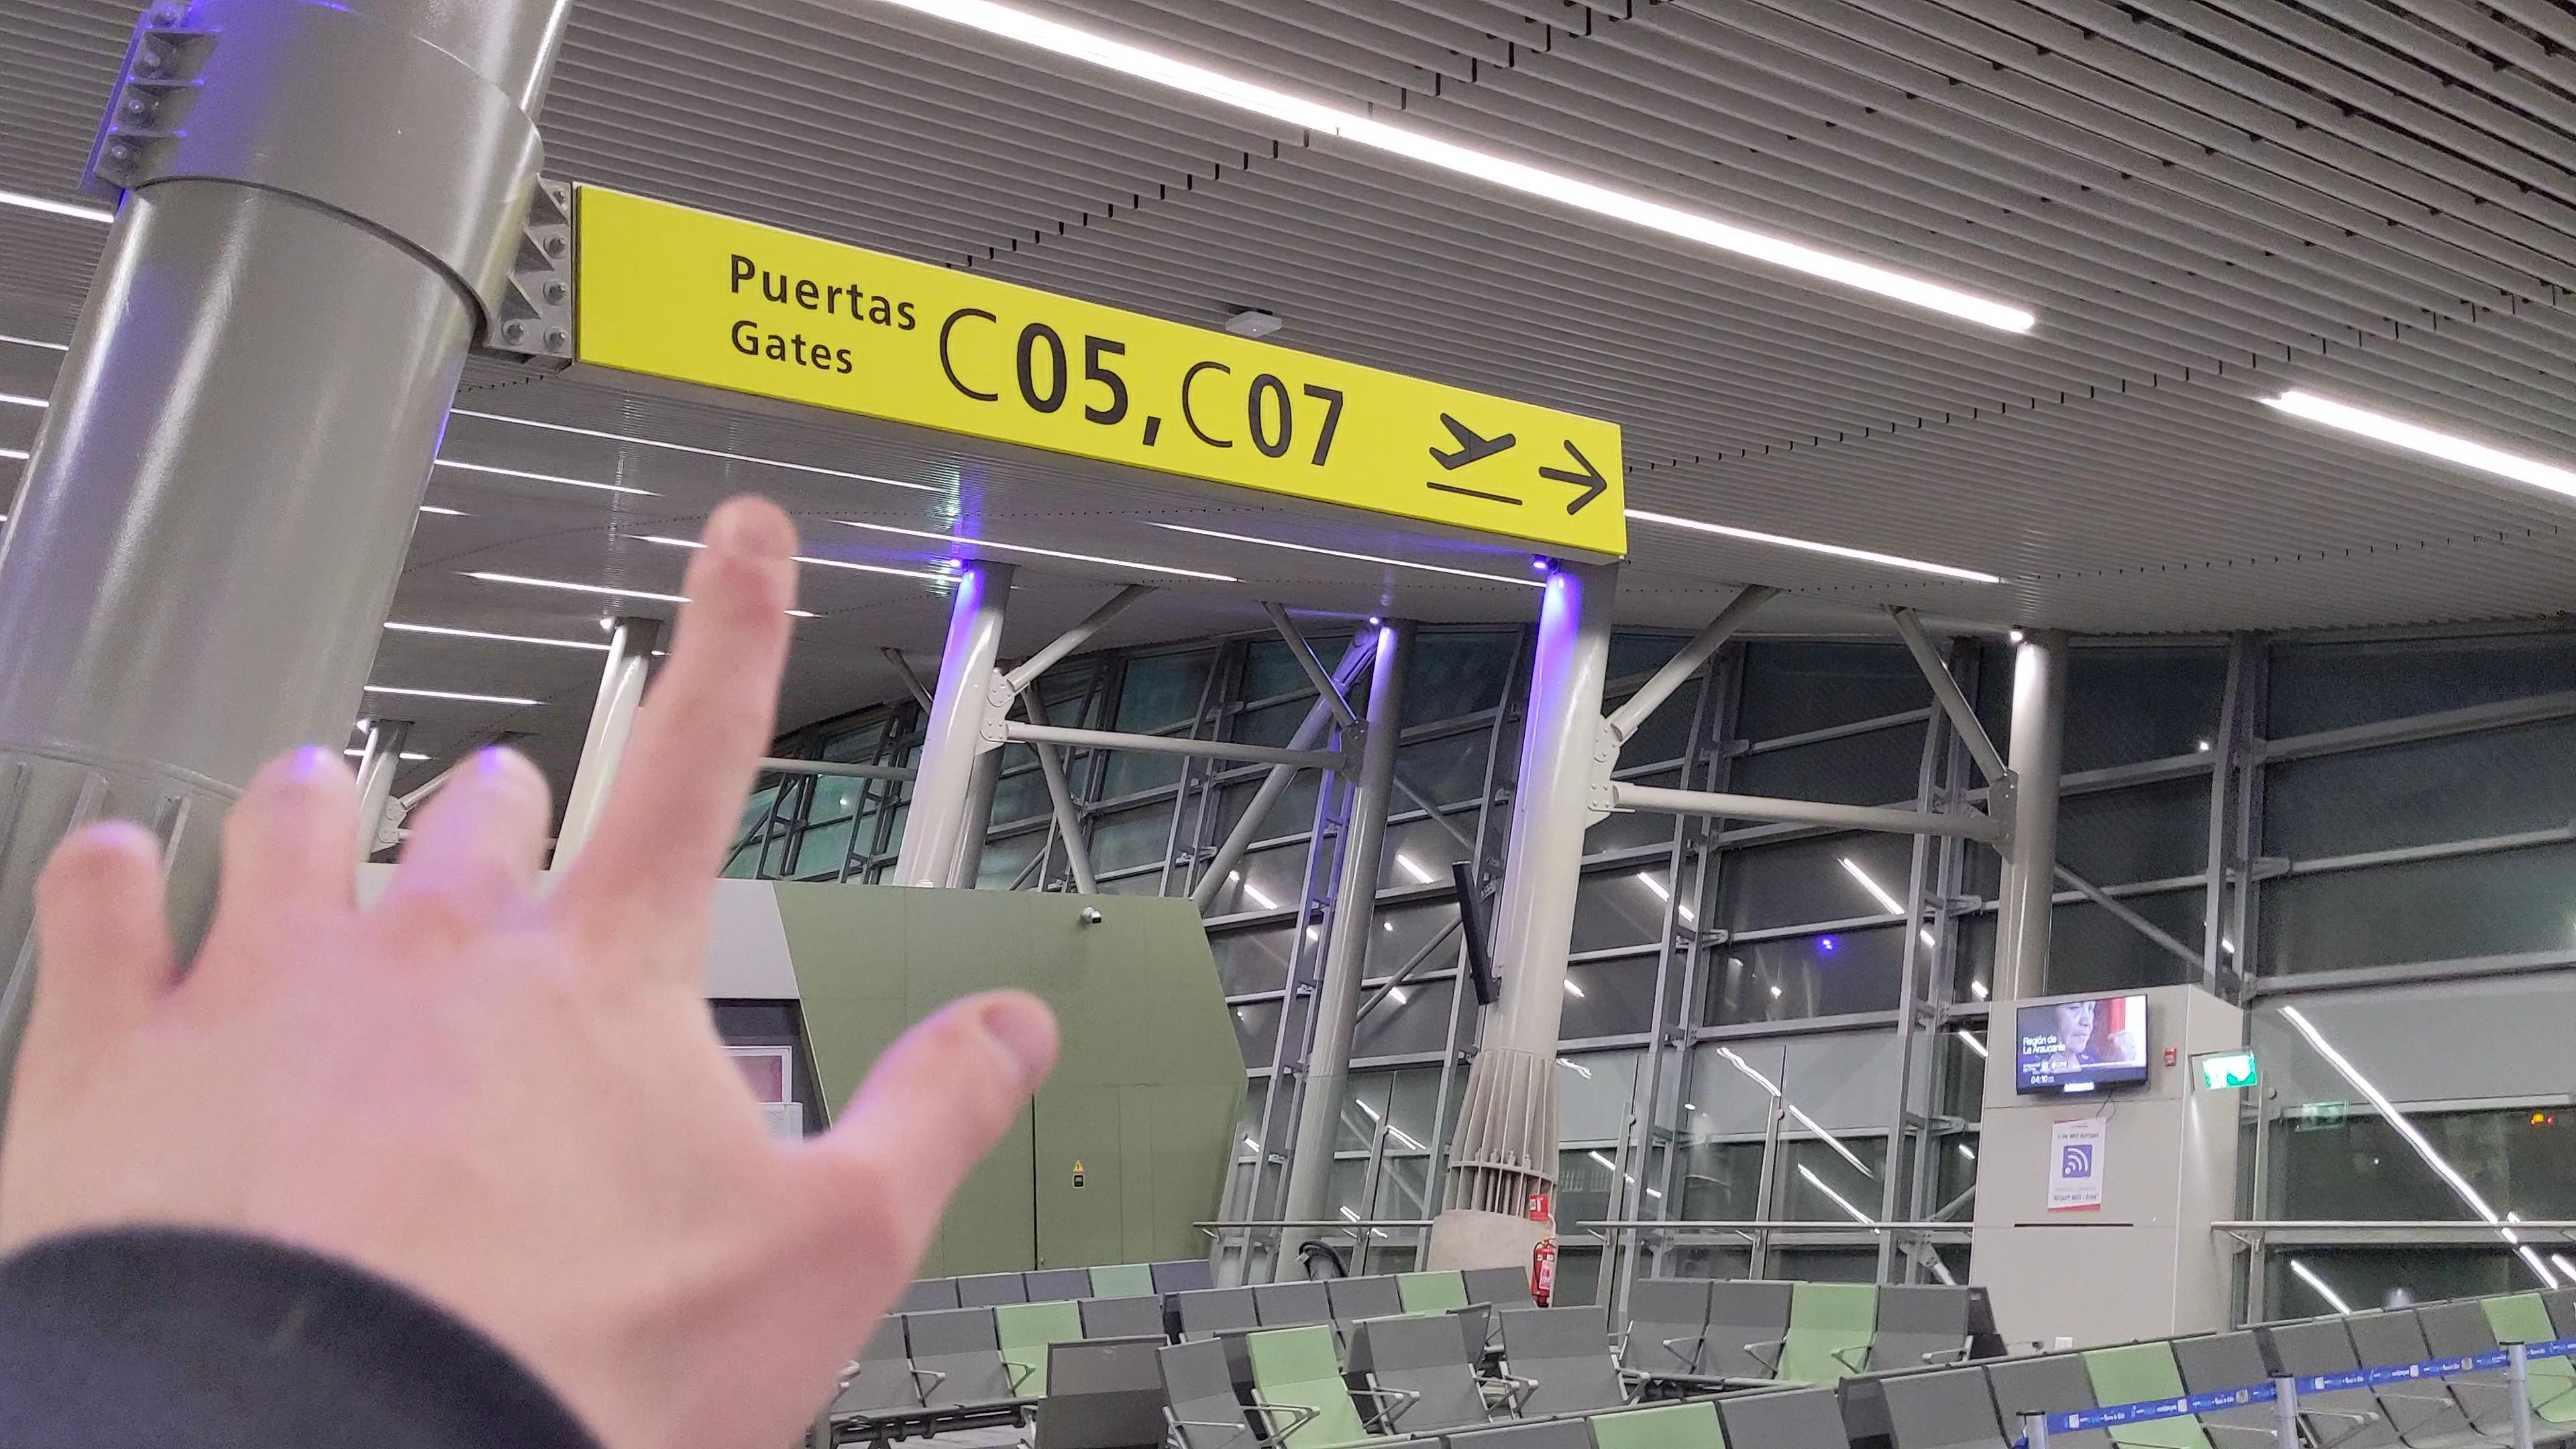airplane symbol: (1426, 410, 1518, 474)
extinguisher symbol: (1536, 1196, 1543, 1214)
fire-extinguisher: (1529, 1235, 1559, 1307)
thin right arrow: (1532, 439, 1610, 518)
